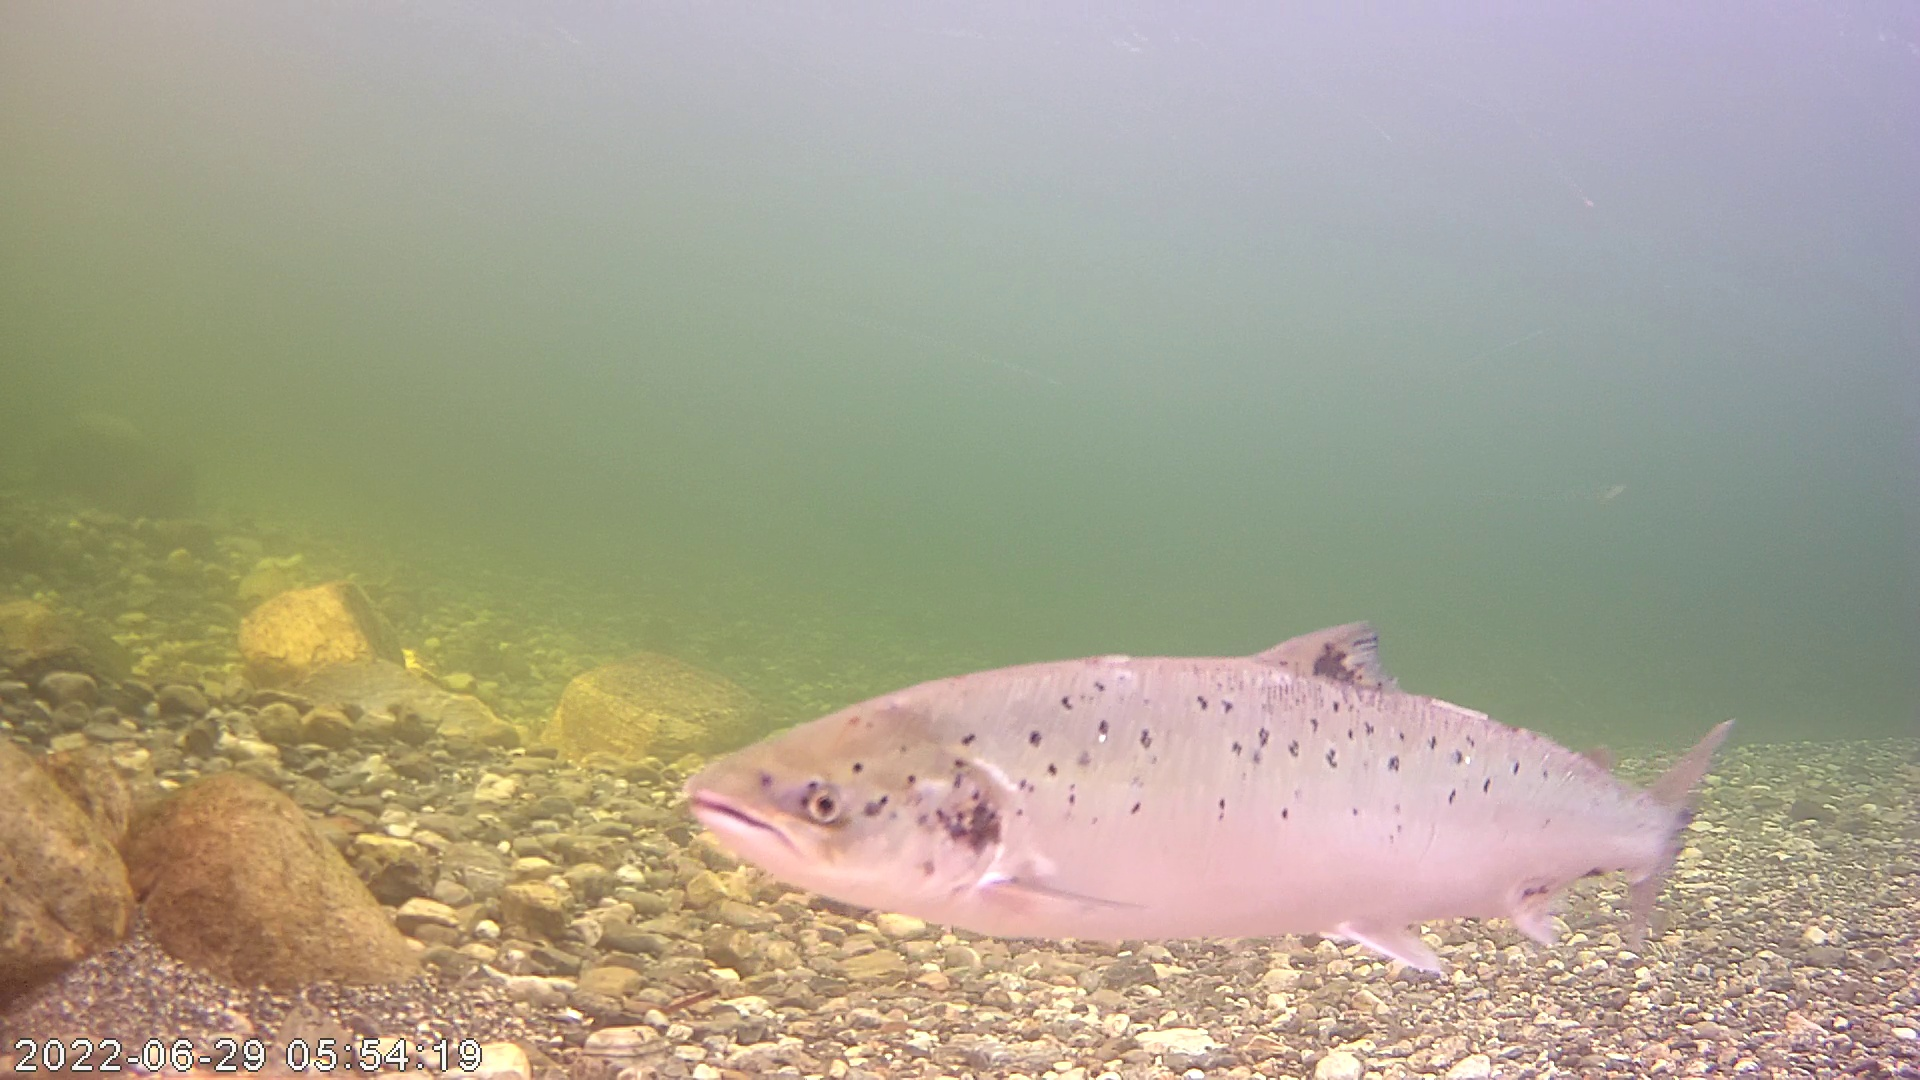salmon: (676, 616, 1741, 977)
